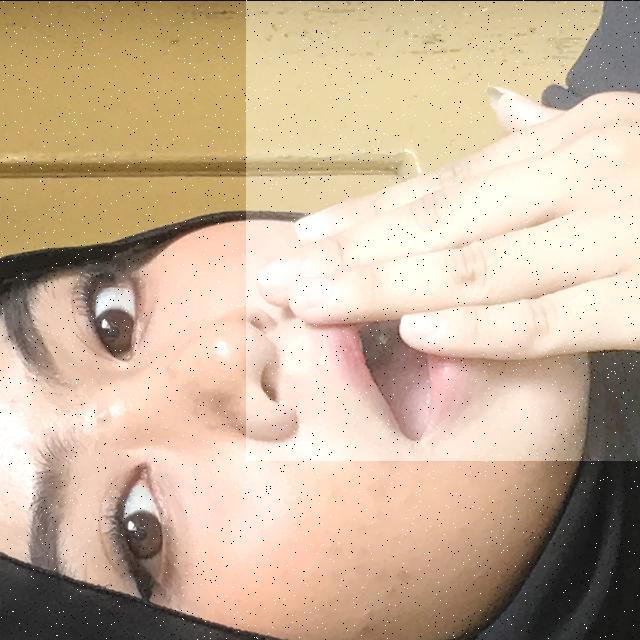ngantuk: (246, 0, 640, 460)
